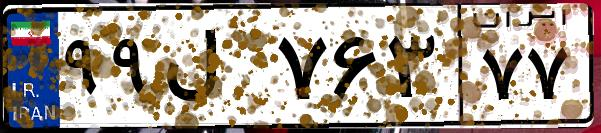3: (385, 28, 445, 110)
6: (330, 28, 385, 110)
7: (270, 28, 330, 110), (475, 38, 525, 113), (525, 38, 570, 115)
9: (57, 26, 110, 100), (110, 28, 158, 98)
ل: (158, 20, 270, 120)
